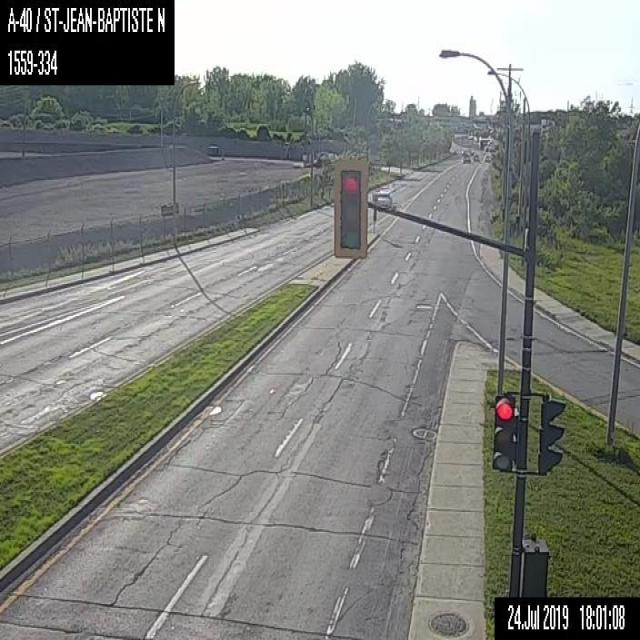vehicle: (378, 191, 392, 204), (472, 153, 478, 160)
